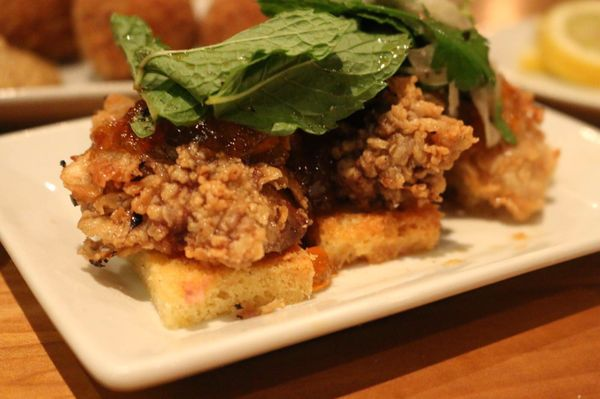soup: (57, 1, 496, 334)
